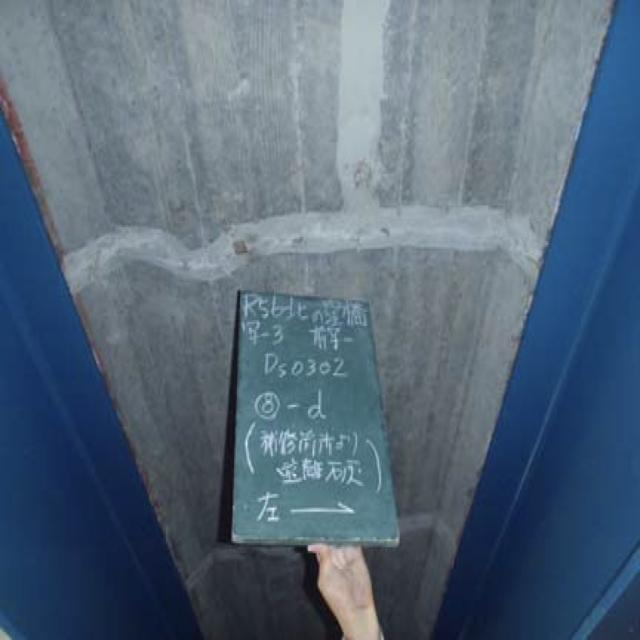freelime: (71, 207, 546, 277)
